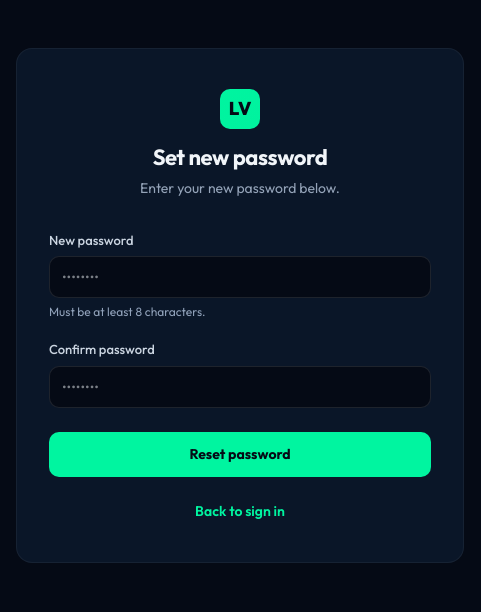
C1: Reset password — full password policy › rejects mismatched passwords
Type "SecureP@ss9" into the password field labelled "New password" at x=240, y=277, box [49, 256, 431, 298]
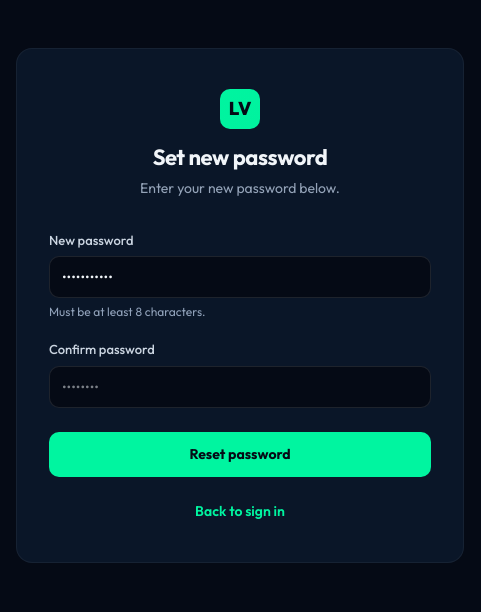
Type "DifferentP@ss1" into the password field labelled "Confirm password" at x=240, y=386, box [49, 366, 431, 408]
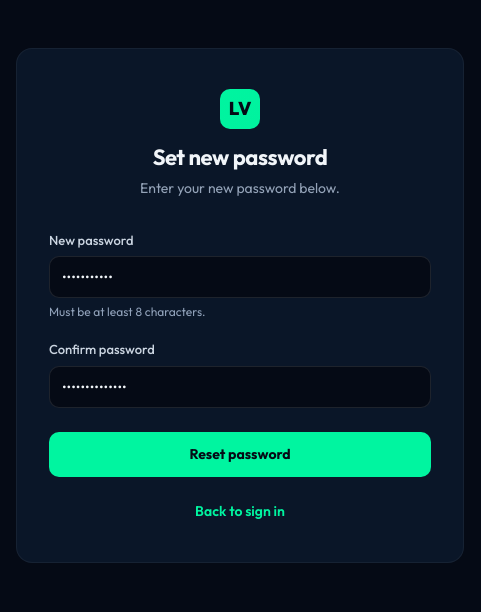
Submit the form from the button "Reset password", box [49, 432, 431, 476]
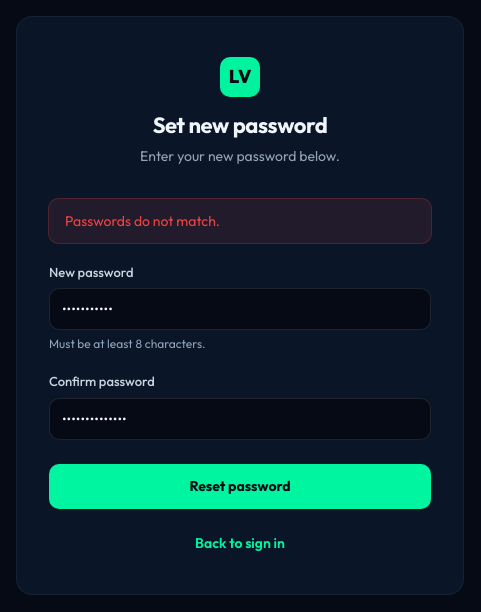
Expected: the message shows "do not match", [65, 212, 220, 230]
